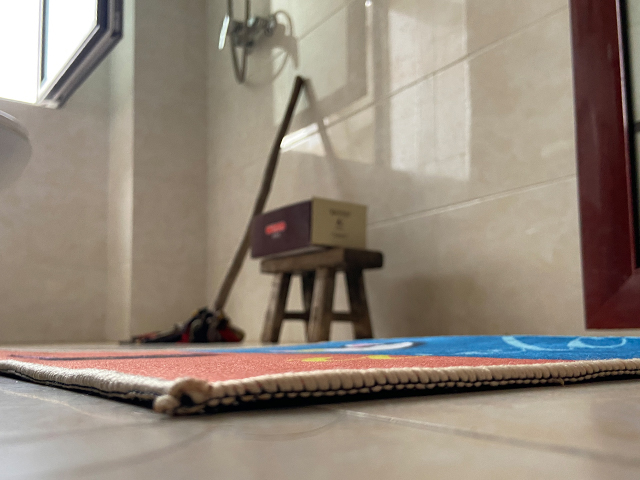carpet: (1, 335, 640, 419)
stool: (258, 249, 384, 345)
